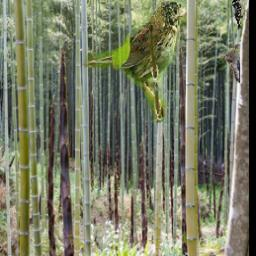Sparrow: (84, 0, 187, 123), (218, 44, 240, 83)
Woodpecker: (232, 0, 249, 31)
